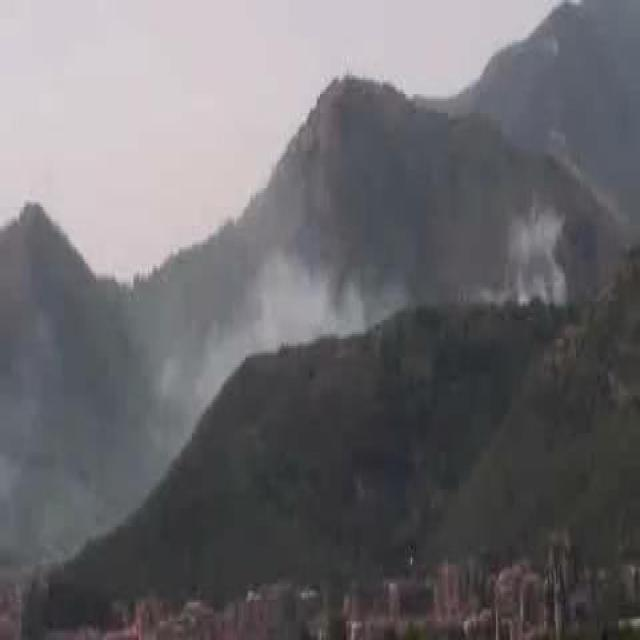Smoke: (219, 230, 369, 338), (494, 207, 570, 304)
